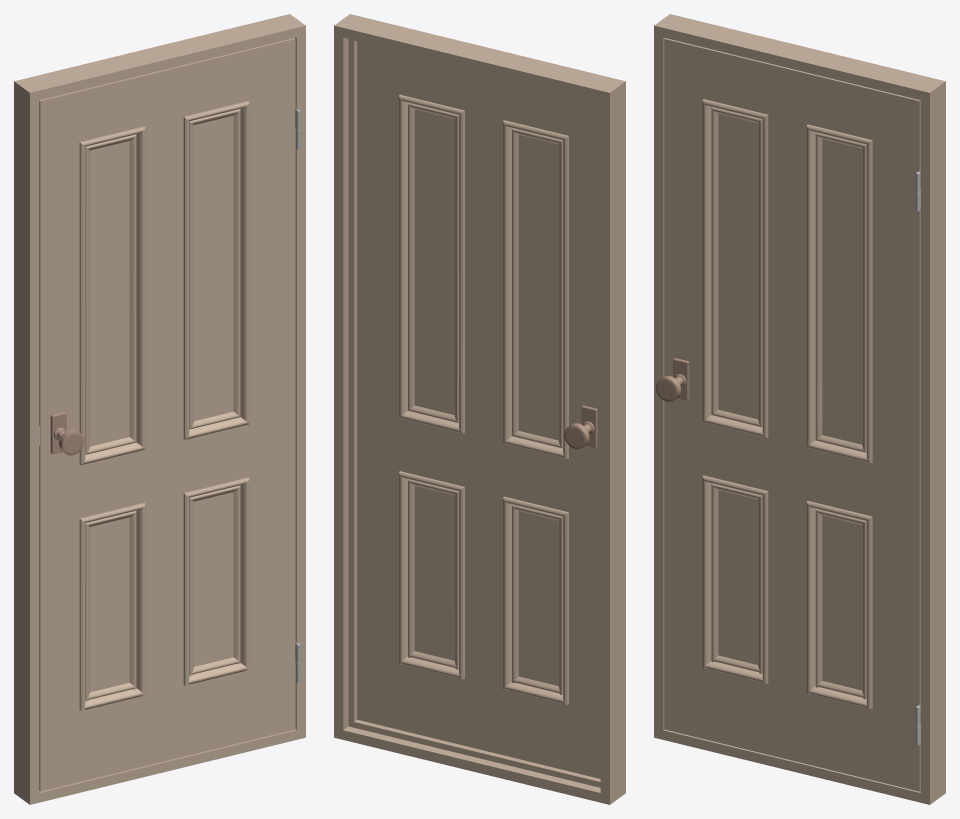
Rendered from 873_door.glb.
3 views of the same model, side by side, from view 1: azimuth 30°, elevation 25°; view 2: azimuth 150°, elevation 25°; view 3: azimuth 330°, elevation 25° (orthographic).
Visible parts, largest first — view 1: 戸, ドア枠; view 2: 戸, ドア枠; view 3: 戸, ドア枠.
Boxes of the visible parts, x1,y1,x2,y2 form: 戸: (39, 38, 300, 791); ドア枠: (14, 14, 305, 804); 戸: (357, 41, 600, 778); ドア枠: (334, 14, 625, 804); 戸: (656, 38, 920, 791); ドア枠: (654, 14, 945, 804).
Bounding box in the file's own units: 0.75 × 1.85 × 0.181.
